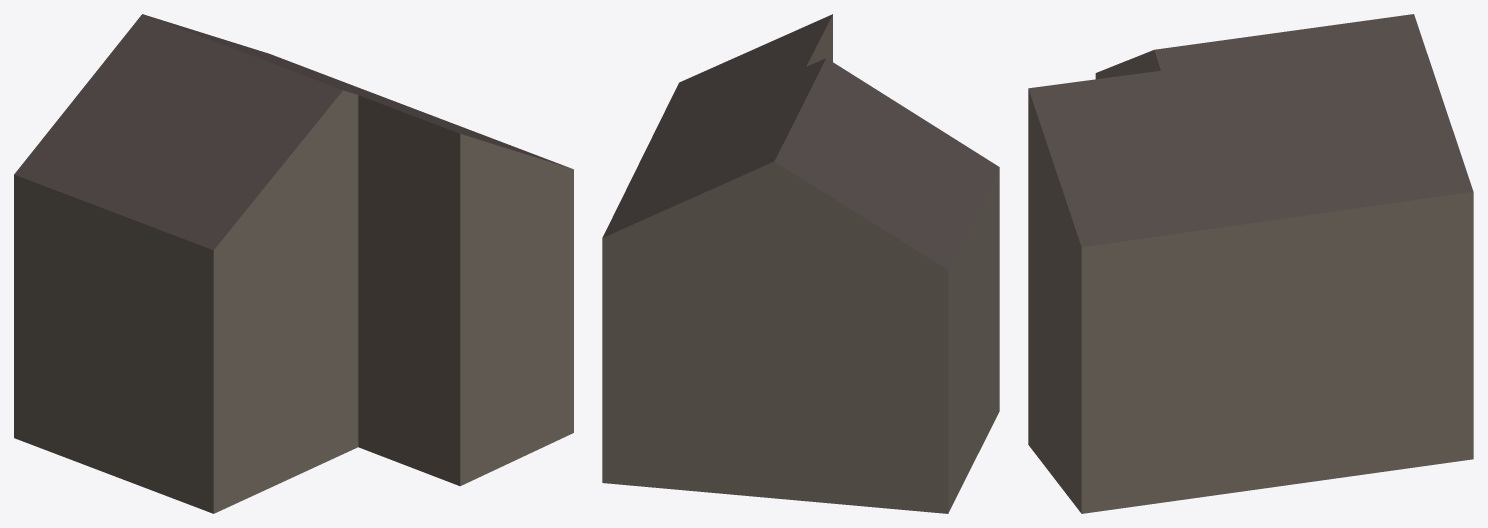
3 views of the same model, side by side, from view 1: azimuth 30°, elevation 25°; view 2: azimuth 150°, elevation 25°; view 3: azimuth 270°, elevation 25° (orthographic). The views are drawn at different scales.
Parts seen in each view (by area): view 1: HP-w1198645097; view 2: HP-w1198645097; view 3: HP-w1198645097.
Part boxes in pixels (left/top/right/bottom): HP-w1198645097: left=14, top=14, right=573, bottom=513; HP-w1198645097: left=602, top=14, right=999, bottom=513; HP-w1198645097: left=1028, top=14, right=1473, bottom=513.
Bounding box in the file's own units: 10.13 × 8.28 × 9.08.
